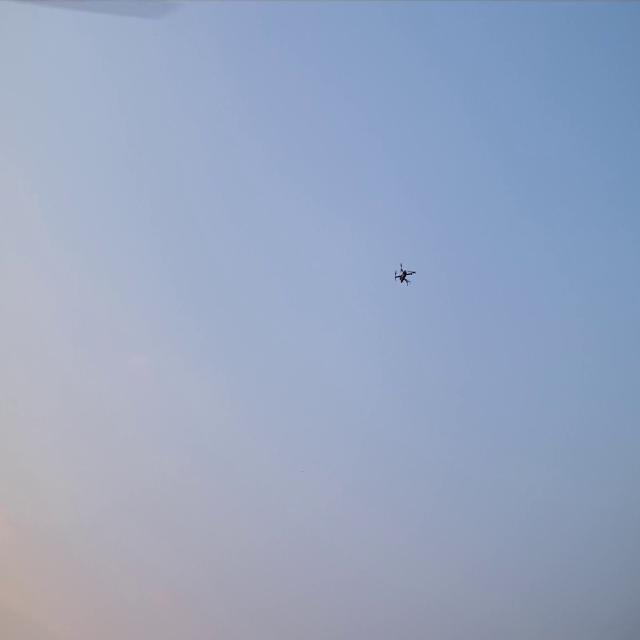UAV: (395, 265, 414, 285)
